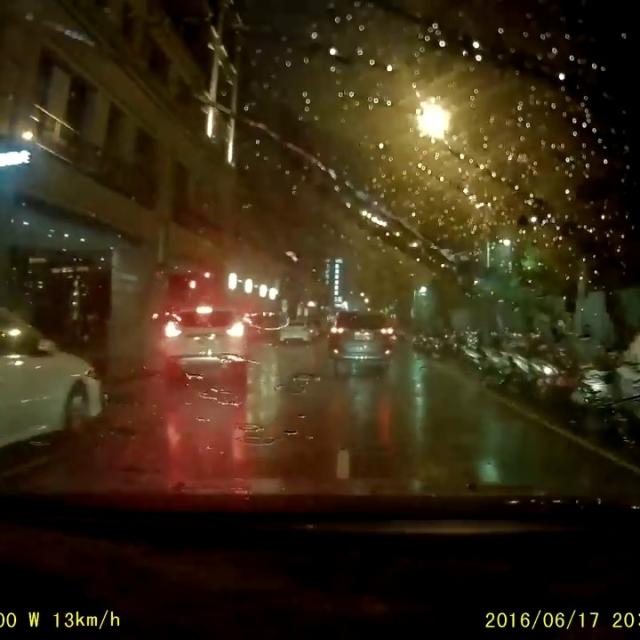Car: (0, 300, 103, 453), (158, 301, 249, 384), (327, 307, 394, 374)
